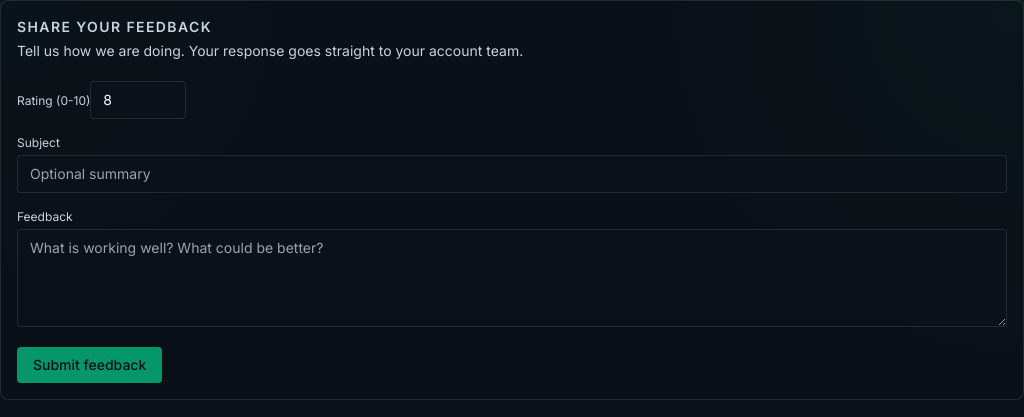
Scenario: PortalFeedbackForm › submits feedback as a portal-sourced pulse
The width and height of the screenshot is (1024, 417).
In the field with placeholder "Optional summary": (512, 174) [17,155,1007,193], type "Great work"
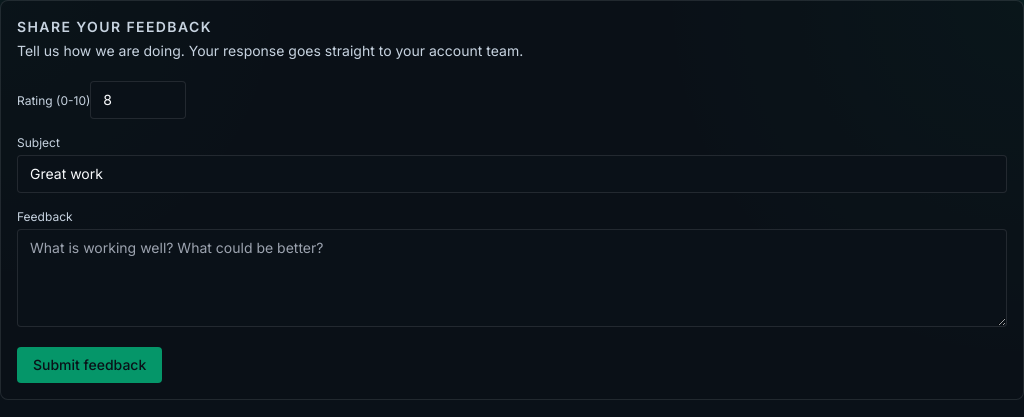
In the text box with placeholder "What is working well? What could be better?": (512, 278) [17,229,1007,327], type "Fast response"
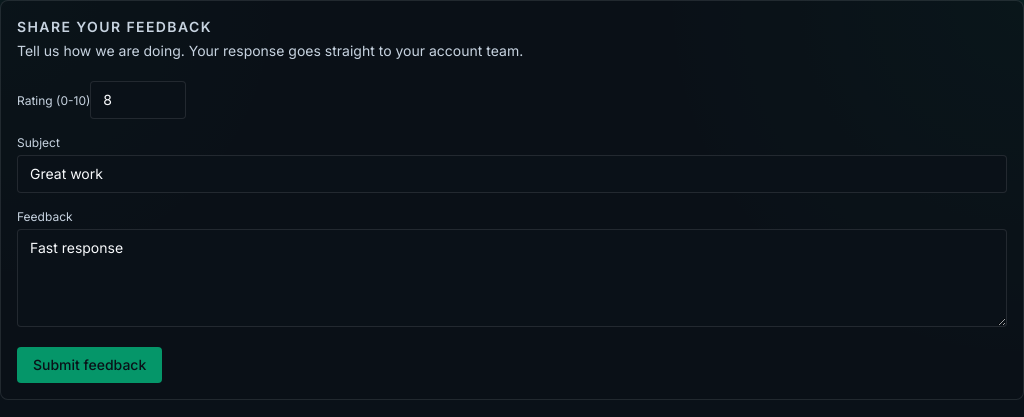
Click the button "Submit feedback": (90, 365) [17,347,162,383]
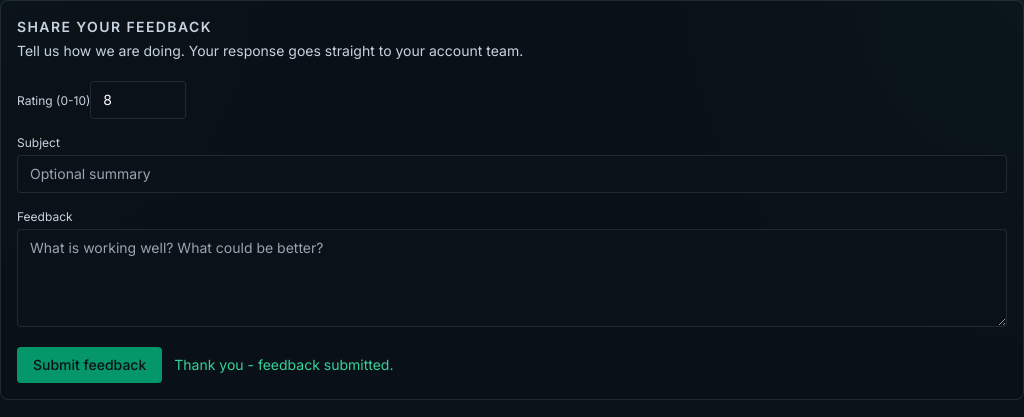
Check: the text "Thank you - feedback submitted." is shown, box [174,355,394,375]
